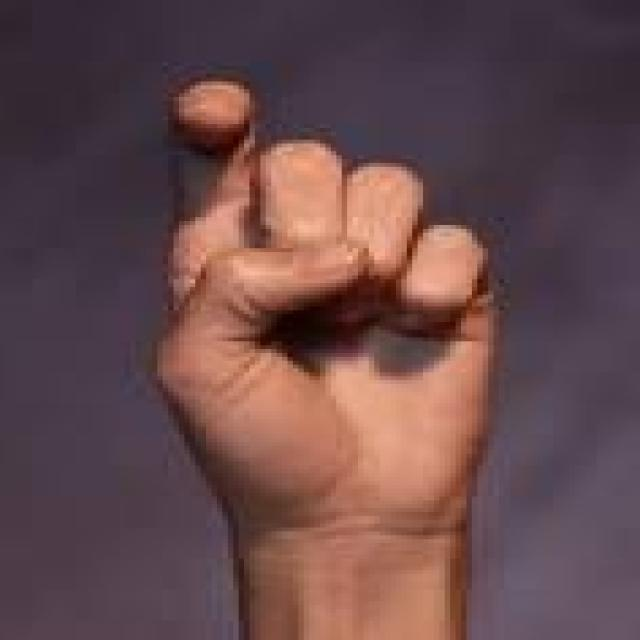X: (133, 68, 534, 545)
